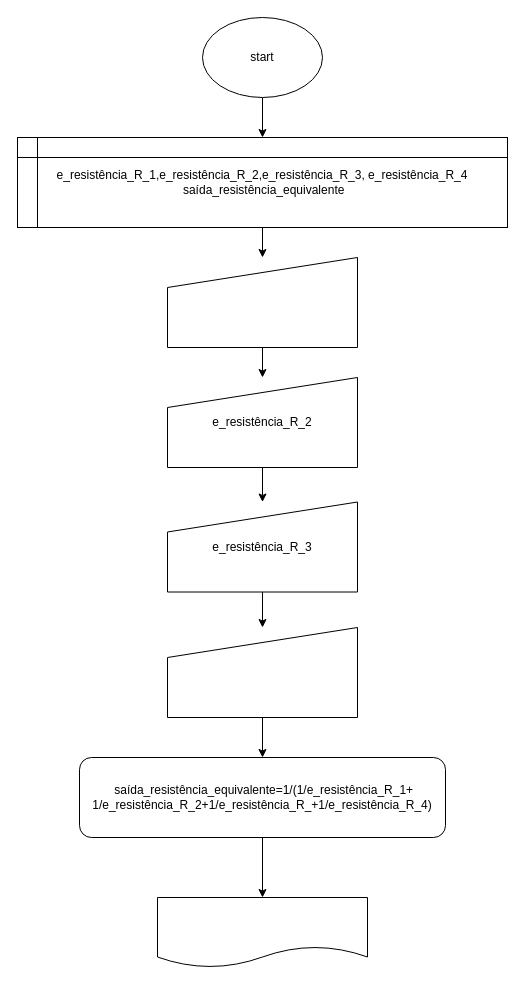
Image size: 525x985. Some labels were removed from this diagram. The centre of each missing label's shape, as x and y in pixels:
"e_resistência_R_1" goes at (x=262, y=302).
"e_resistência_R_4" goes at (x=262, y=672).
"saída_resistência_equivalente" goes at (x=262, y=932).
